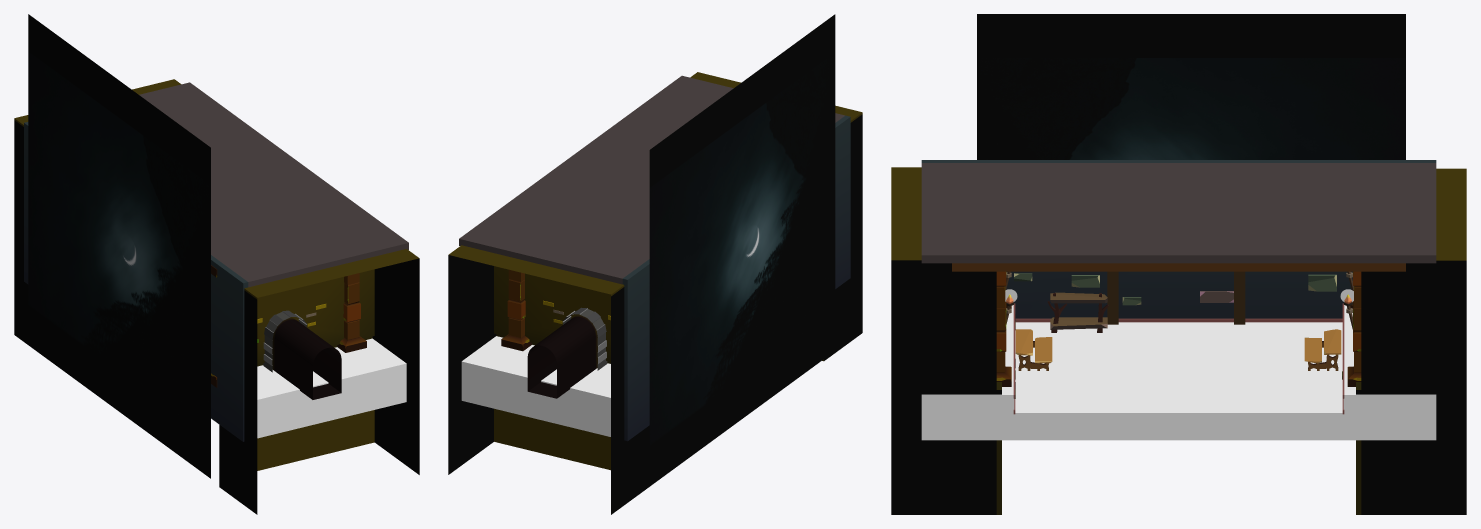
The model's file is Witches Den.fbx.
The picture shows the model from 3 angles, left to right: view 1: azimuth 30°, elevation 25°; view 2: azimuth 150°, elevation 25°; view 3: azimuth 270°, elevation 25°; orthographic projection. The views are drawn at different scales.
Visible parts, largest first — view 1: Witches Den; view 2: Witches Den; view 3: Witches Den.
Boxes of the visible parts, box(x1,y1,x2,y2) form: Witches Den: box(14, 14, 419, 514); Witches Den: box(448, 14, 862, 514); Witches Den: box(891, 14, 1466, 514).
Bounding box in the file's own units: 9.7 × 17.77 × 23.03.
